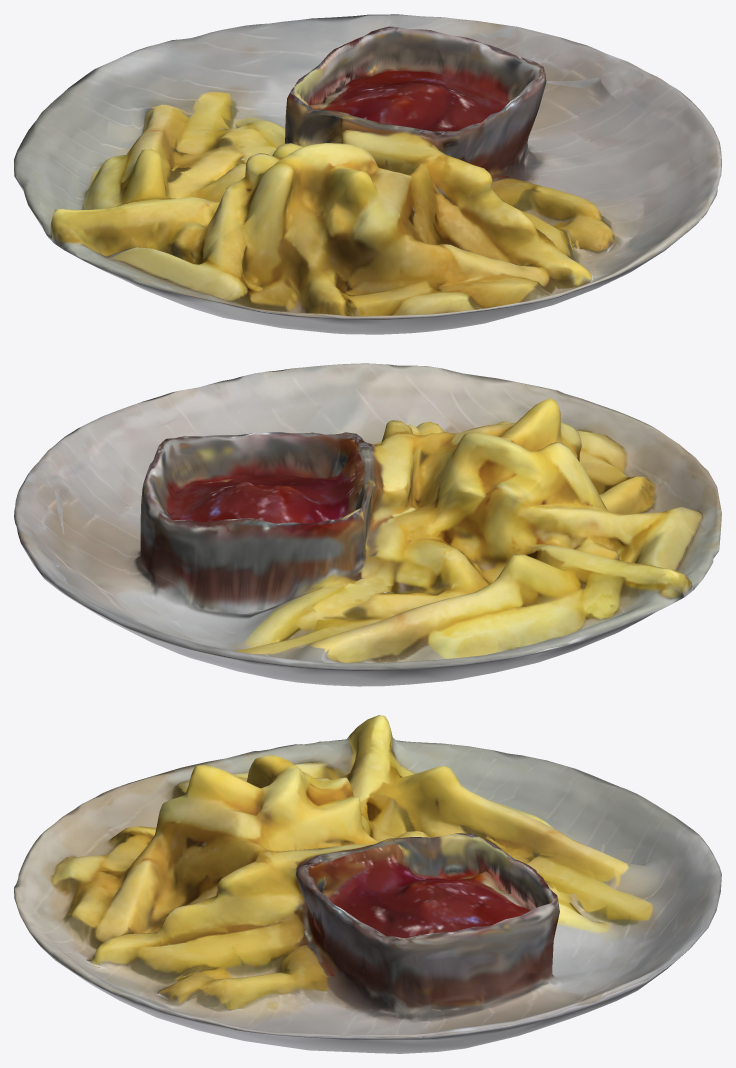
The model's file is french_fries_with_ketchup.glb.
3 views of the same model, one above another, from view 1: azimuth 30°, elevation 25°; view 2: azimuth 150°, elevation 25°; view 3: azimuth 270°, elevation 25° (orthographic).
Visible parts, largest first — view 1: Fries; view 2: Fries; view 3: Fries.
Boxes of the visible parts, box(x1,y1,x2,y2) form: Fries: box(14, 14, 721, 334); Fries: box(14, 363, 721, 686); Fries: box(14, 715, 721, 1053).
Size of the model in its own units: 0.2136 by 0.0532 by 0.2114.
Materials: 1 (1 with a texture image).
